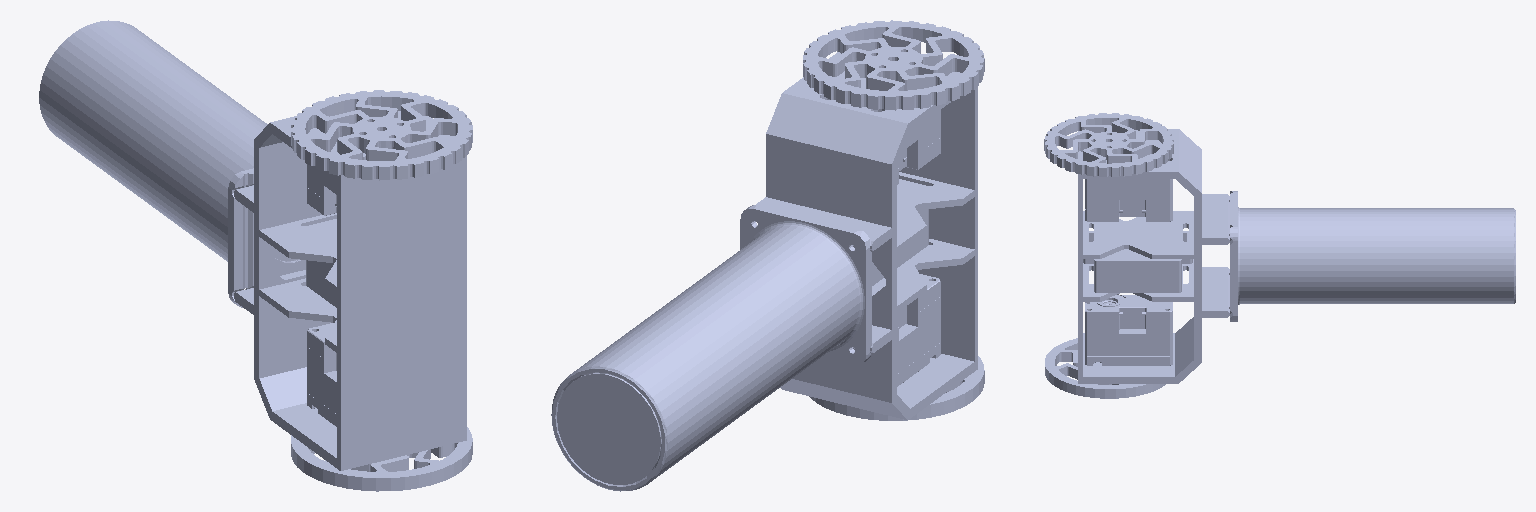
URDF robot description (bb_mini):
<?xml version="1.0" encoding="utf-8"?>
<!-- This URDF was automatically created by SolidWorks to URDF Exporter! Originally created by [author] ([email redacted]) 
     Commit Version: 1.6.0-4-g7f85cfe  Build Version: 1.6.7995.38578
     For more information, please see http://wiki.ros.org/sw_urdf_exporter -->
<robot
  name="bb_mini">
  <link
    name="base_link">
    <inertial>
      <origin
        xyz="0.000317055566710628 0.076488417570947 -2.58437172176064E-06"
        rpy="0 0 0" />
      <mass
        value="0.192203558749535" />
      <inertia
        ixx="0.000173938143807583"
        ixy="-3.60858061315641E-20"
        ixz="1.68020070090228E-10"
        iyy="5.44771508067426E-05"
        iyz="-1.90432005930742E-19"
        izz="0.000152313711792622" />
    </inertial>
    <visual>
      <origin
        xyz="0 0 0"
        rpy="0 0 0" />
      <geometry>
        <mesh
          filename="package://bb_mini/meshes/base_link.STL" />
      </geometry>
      <material
        name="">
        <color
          rgba="0.792156862745098 0.819607843137255 0.933333333333333 1" />
      </material>
    </visual>
    <collision>
      <origin
        xyz="0 0 0"
        rpy="0 0 0" />
      <geometry>
        <mesh
          filename="package://bb_mini/meshes/base_link.STL" />
      </geometry>
    </collision>
  </link>
  <link
    name="right_wheel">
    <inertial>
      <origin
        xyz="3.24201357137619E-17 1.38777878078145E-17 -0.0850823988598058"
        rpy="0 0 0" />
      <mass
        value="0.00496078957070453" />
      <inertia
        ixx="7.48720067275436E-07"
        ixy="-2.58695889814558E-22"
        ixz="5.30448166659125E-23"
        iyy="7.48720067275434E-07"
        iyz="-5.30943027159063E-23"
        izz="1.4639509286255E-06" />
    </inertial>
    <visual>
      <origin
        xyz="0 0 0"
        rpy="0 0 0" />
      <geometry>
        <mesh
          filename="package://bb_mini/meshes/right_wheel.STL" />
      </geometry>
      <material
        name="">
        <color
          rgba="0.792156862745098 0.819607843137255 0.933333333333333 1" />
      </material>
    </visual>
    <collision>
      <origin
        xyz="0 0 0"
        rpy="0 0 0" />
      <geometry>
        <mesh
          filename="package://bb_mini/meshes/right_wheel.STL" />
      </geometry>
    </collision>
  </link>
  <joint
    name="right_servo"
    type="continuous">
    <origin
      xyz="0 0.0095 0.0387"
      rpy="0 0 0" />
    <parent
      link="base_link" />
    <child
      link="right_wheel" />
    <axis
      xyz="0 0 -1" />
    <limit
      effort="0.52"
      velocity="10.89" />
  </joint>
  <link
    name="left_wheel">
    <inertial>
      <origin
        xyz="-3.27796769058235E-17 1.38777878078145E-17 0.0850823988598058"
        rpy="0 0 0" />
      <mass
        value="0.00496078957070453" />
      <inertia
        ixx="7.48720067275435E-07"
        ixy="1.56986475582601E-22"
        ixz="7.52493561978411E-23"
        iyy="7.48720067275433E-07"
        iyz="-5.59121493864916E-23"
        izz="1.4639509286255E-06" />
    </inertial>
    <visual>
      <origin
        xyz="0 0 0"
        rpy="0 0 0" />
      <geometry>
        <mesh
          filename="package://bb_mini/meshes/left_wheel.STL" />
      </geometry>
      <material
        name="">
        <color
          rgba="0.792156862745098 0.819607843137255 0.933333333333333 1" />
      </material>
    </visual>
    <collision>
      <origin
        xyz="0 0 0"
        rpy="0 0 0" />
      <geometry>
        <mesh
          filename="package://bb_mini/meshes/left_wheel.STL" />
      </geometry>
    </collision>
  </link>
  <joint
    name="left_servo"
    type="continuous">
    <origin
      xyz="0 0.0095 -0.0385"
      rpy="0 0 0" />
    <parent
      link="base_link" />
    <child
      link="left_wheel" />
    <axis
      xyz="0 0 -1" />
    <limit
      effort="0.52"
      velocity="10.89" />
  </joint>
</robot>

--- What the picture shows (computed from the rendered views, not written in the file) ---
3 views of the same robot in one strip: view 1: azimuth 30°, elevation 25°; view 2: azimuth 150°, elevation 25°; view 3: azimuth 270°, elevation 25° (orthographic).
Model bb_mini with 3 links and 2 joints (2 continuous), rooted at base_link, posed all joints at 0.
Visible links, largest first — view 1: base_link, left_wheel, right_wheel; view 2: base_link, left_wheel, right_wheel; view 3: base_link, left_wheel, right_wheel.
Link boxes in pixels (bbox=[...]): base_link: bbox=[39, 20, 466, 470]; left_wheel: bbox=[291, 90, 472, 180]; right_wheel: bbox=[291, 427, 472, 491]; base_link: bbox=[551, 52, 977, 491]; left_wheel: bbox=[803, 20, 984, 110]; right_wheel: bbox=[809, 356, 984, 420]; base_link: bbox=[1078, 129, 1515, 383]; left_wheel: bbox=[1044, 113, 1173, 176]; right_wheel: bbox=[1045, 338, 1165, 398].
Size in the robot's own frame: 0.05 by 0.1816 by 0.0982 metres.
3 mesh visuals loaded from 3 distinct referenced files (3 binary STL).